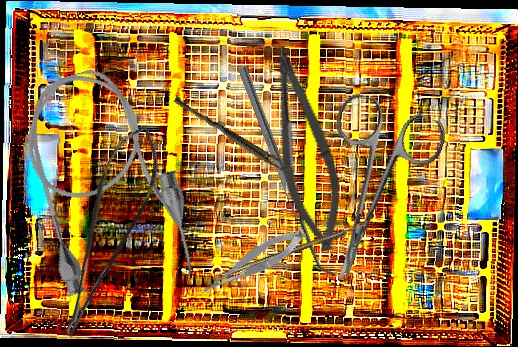Cannula: (5, 54, 206, 311)
Hook Surgical: (220, 222, 367, 279)
Iris Scissors: (287, 89, 450, 297)
Micro Scissor: (27, 116, 180, 342), (248, 41, 358, 257), (192, 224, 313, 299)
Spatula Surgical: (237, 62, 337, 282)
Tissue Forceps: (170, 95, 295, 177)
